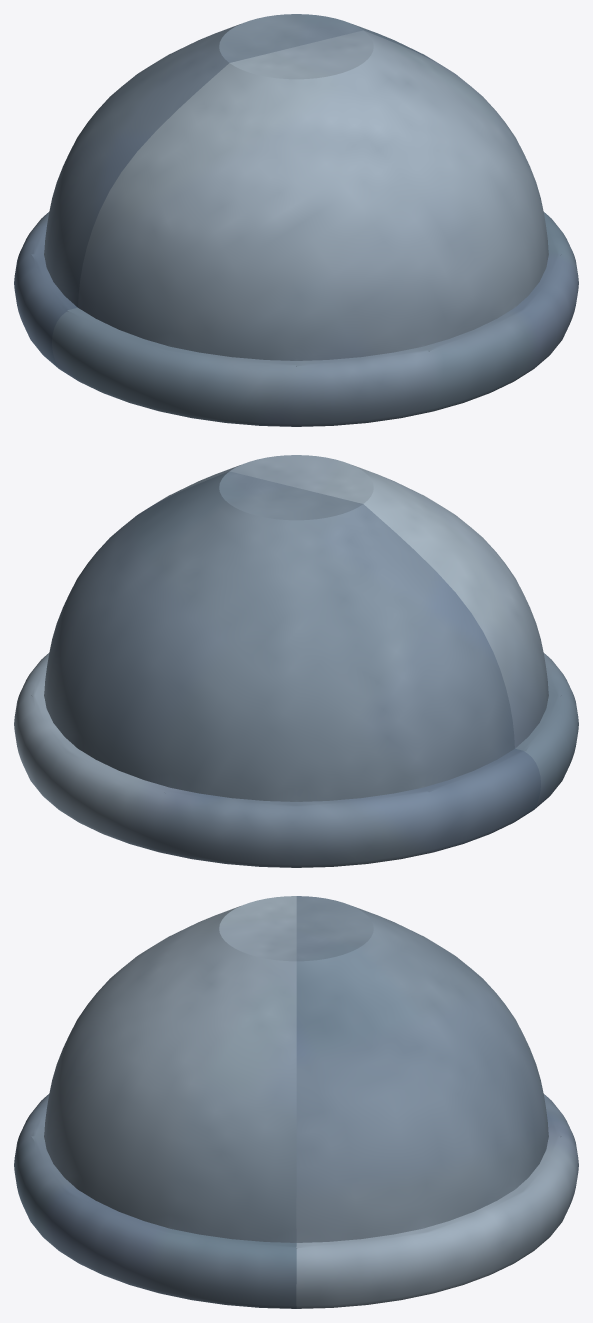
The model's file is Cappello di Lana.fbx.
3 views of the same model, one above another, from view 1: azimuth 30°, elevation 25°; view 2: azimuth 150°, elevation 25°; view 3: azimuth 270°, elevation 25° (orthographic).
Parts seen in each view (by area): view 1: Circle; view 2: Circle; view 3: Circle.
Part boxes in pixels (x1=…): Circle: x1=14, y1=14, x2=578, y2=426; Circle: x1=14, y1=455, x2=578, y2=867; Circle: x1=14, y1=896, x2=578, y2=1308.
Size of the model in its own units: 221 by 114 by 221.
